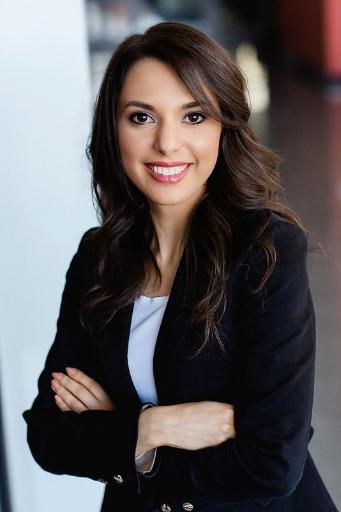left_eye: (183, 112, 209, 129)
left_lip_corner: (190, 160, 198, 172)
right_eye: (128, 112, 157, 129)
right_lip_corner: (142, 160, 149, 172)
